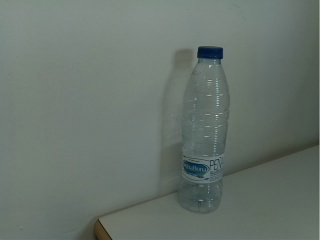botella plastico: (176, 44, 229, 215)
